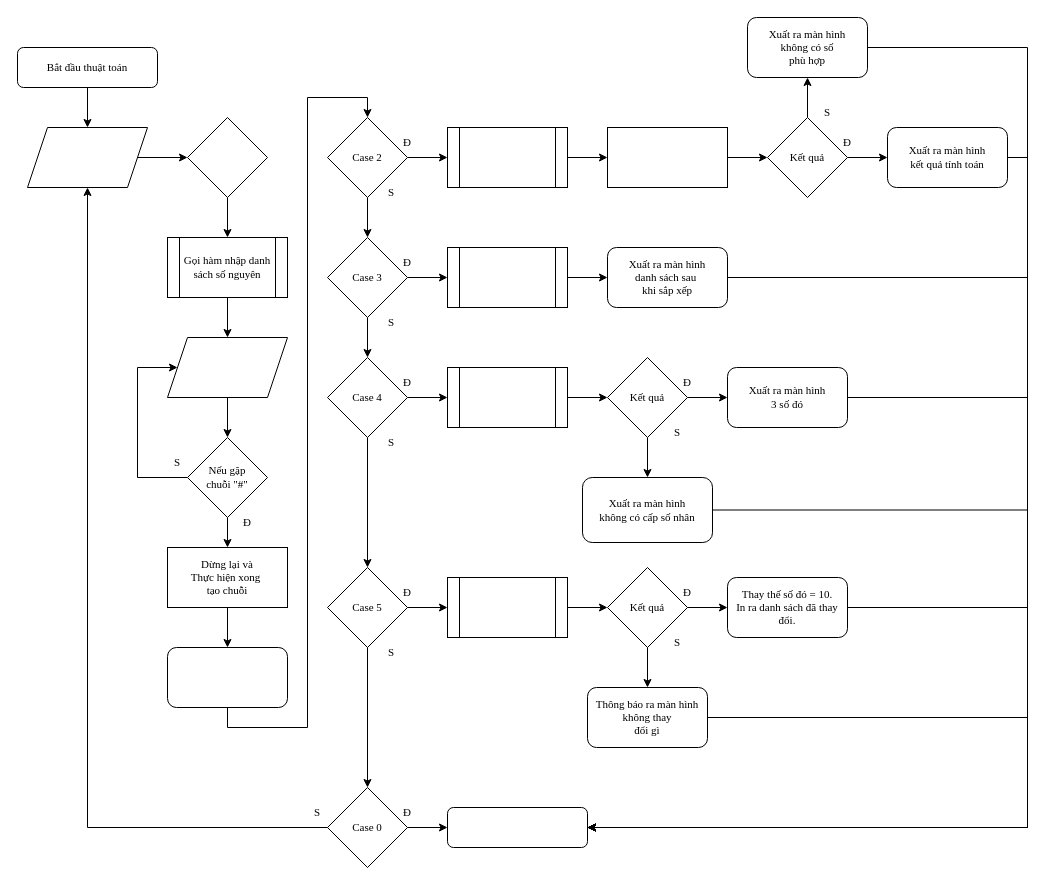
The diagram is 1053 pixels wide and 885 high, and some of its shapes have lost their labels. Here are the shapes that lost their labels. From the top down, the centre of each, then its label:
At point 87,157: "Nhập số case để thực hiên".
At point 227,157: "Case 1".
At point 507,157: "Kiểm tra số dương, chẵn, chia hết cho 5".
At point 667,157: "Tính trung bình nhân của các số đã lọc".
At point 507,277: "Dùng thuật toán sắp xếp chèn".
At point 227,367: "Nhập các số nguyên".
At point 507,397: "Kiểm tra xem 3 phần tử liên tiếp có phải là cấp số nhân hay không".
At point 507,607: "KIểm tra vị trí số 5 phải số nguyên tố hay không".
At point 227,677: "Tạo danh sách thành công".
At point 517,827: "Kết thúc chương trình".
